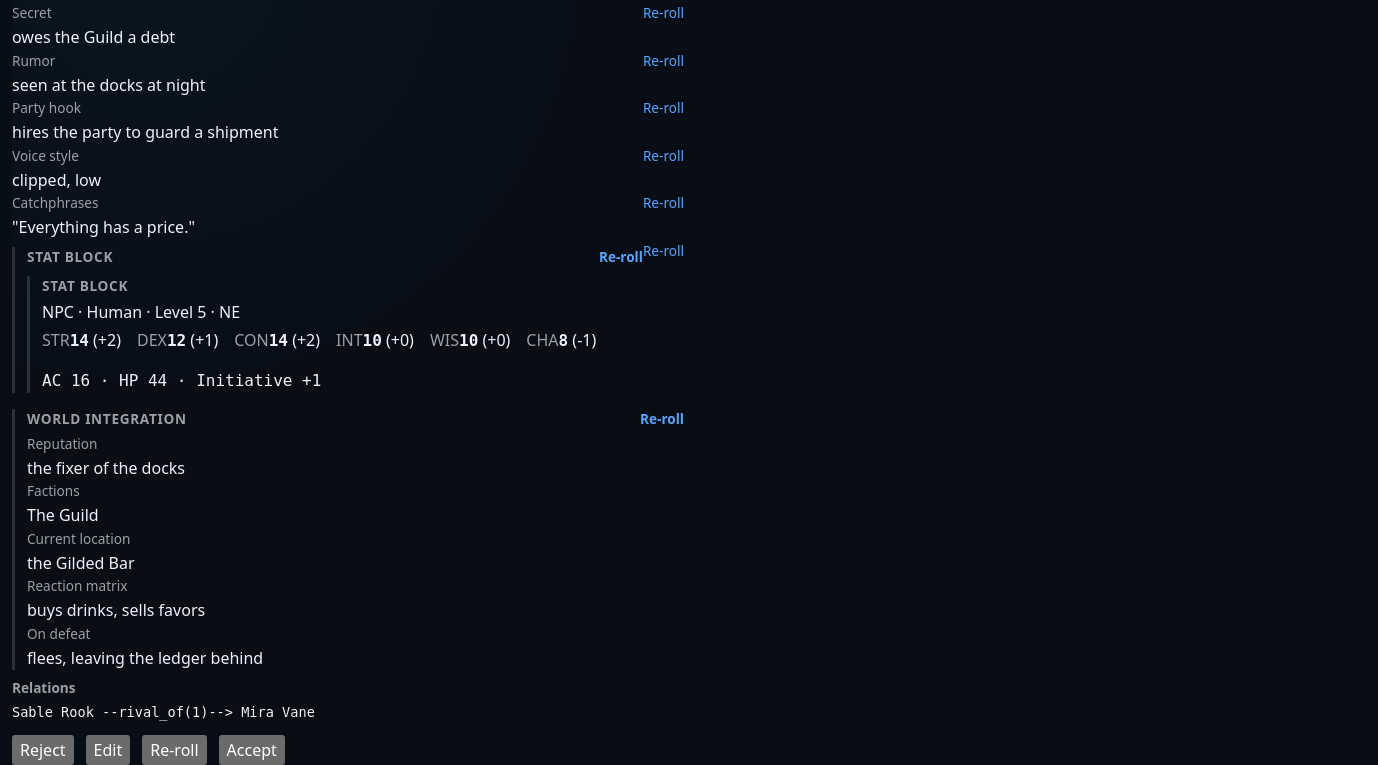
Test: CandidatesView › accept without edits posts no body (3.2 behavior unchanged)
(page scrolled)
Click the button "Accept" at x=252, y=750, box [219, 735, 285, 764]
(page scrolled)
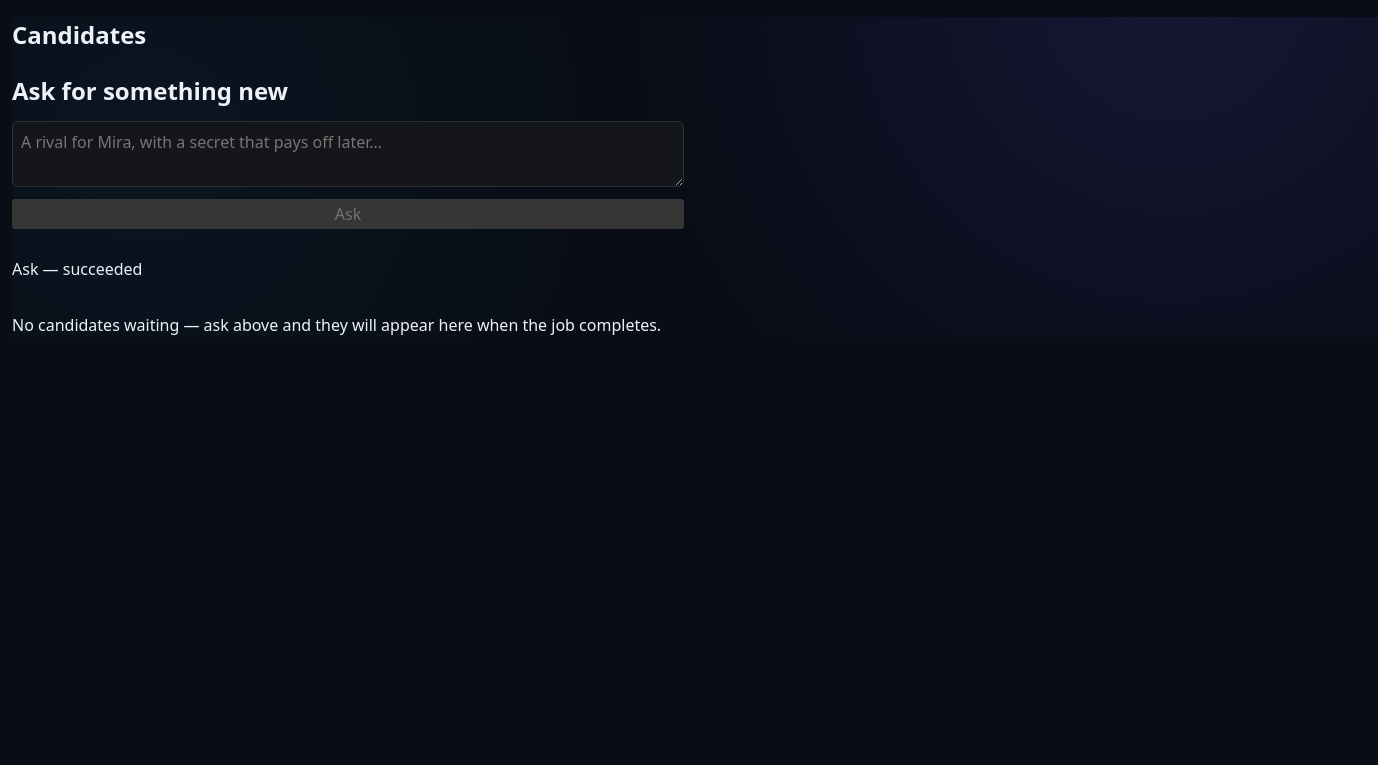
Now the text "Sable Rook --rival_of(1)--> Mira Vane" is gone
